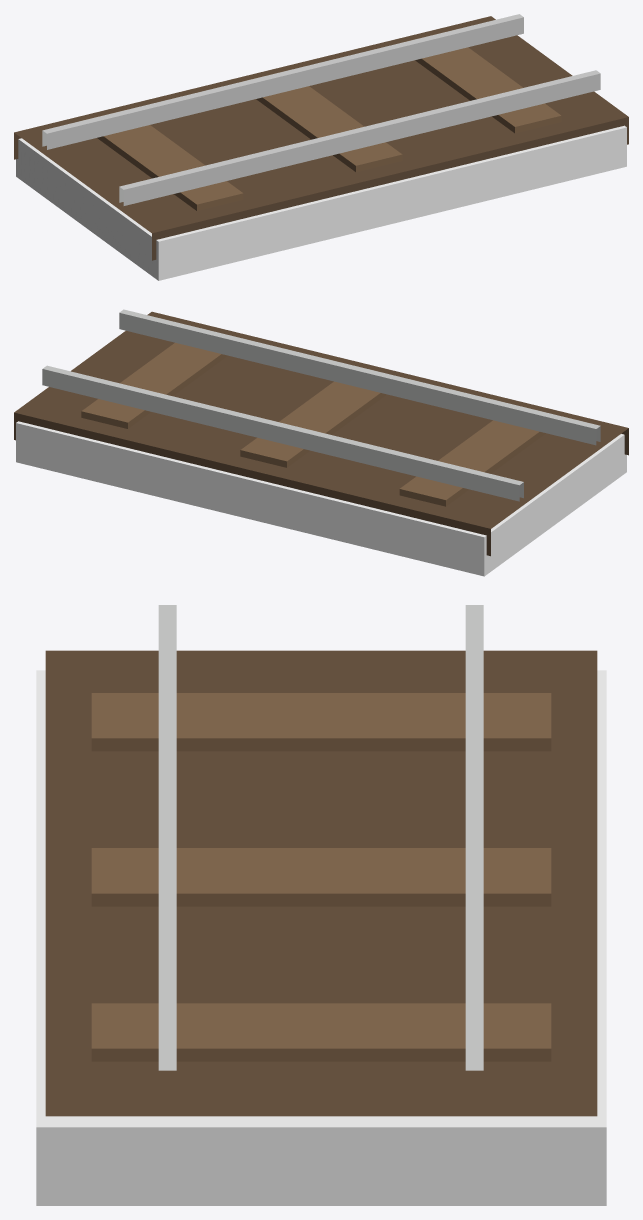
Rendered from Track straight x1.fbx.
3 views of the same model, one above another, from view 1: azimuth 30°, elevation 25°; view 2: azimuth 150°, elevation 25°; view 3: azimuth 270°, elevation 25° (orthographic). The views are drawn at different scales.
Visible parts, largest first — view 1: Straight 1x Legacy, Gravel; view 2: Straight 1x Legacy, Gravel; view 3: Straight 1x Legacy, Gravel.
Boxes of the visible parts, x1,y1,x2,y2 form: Straight 1x Legacy: (14,14,628,260); Gravel: (16,125,626,280); Straight 1x Legacy: (14,309,628,556); Gravel: (16,421,626,576); Straight 1x Legacy: (45,605,597,1116); Gravel: (36,670,606,1205).
Bounding box in the file's own units: 1 × 0.1397 × 0.5179.
